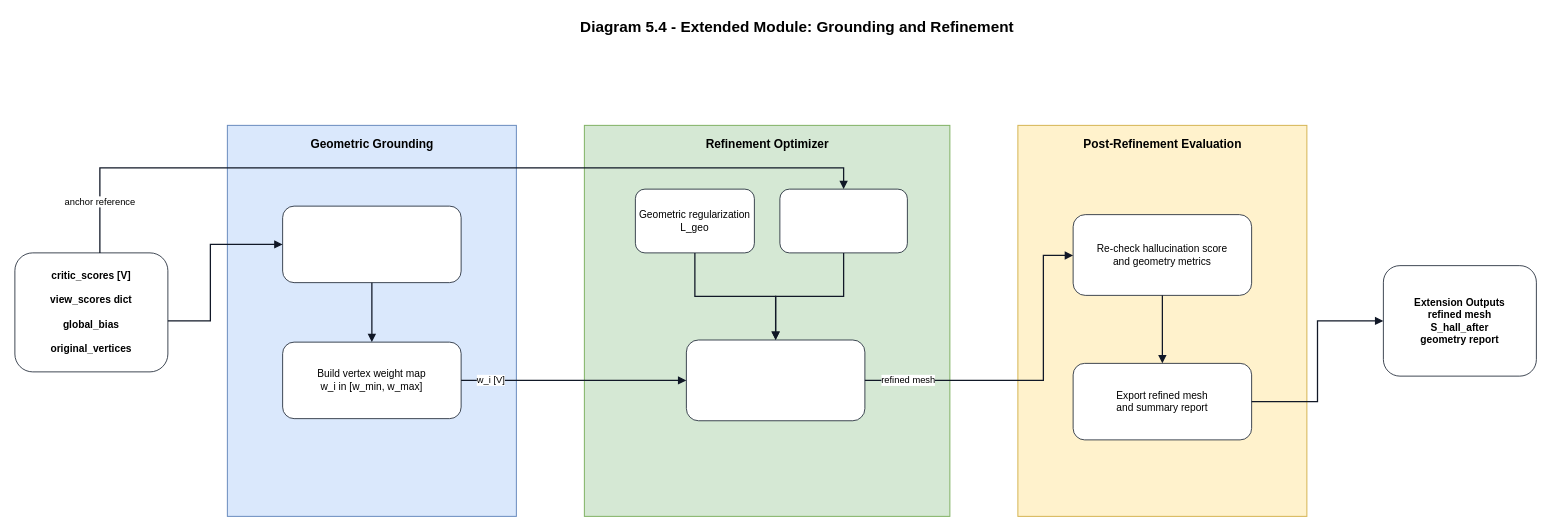
Image size: 1551x531. Some labels were removed from this diagram. Here are the shapes that lost their labels. From the top down, the centre of each, then its label:
(843,220): Anchor constraint
(371,244): Project multi-view evidence into 3D vertex space
(775,380): Weighted refinement update
